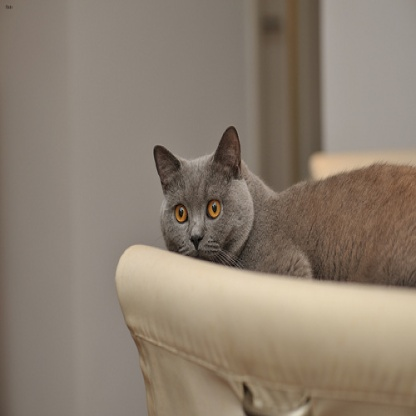british_shorthair: (153, 125, 416, 288)
